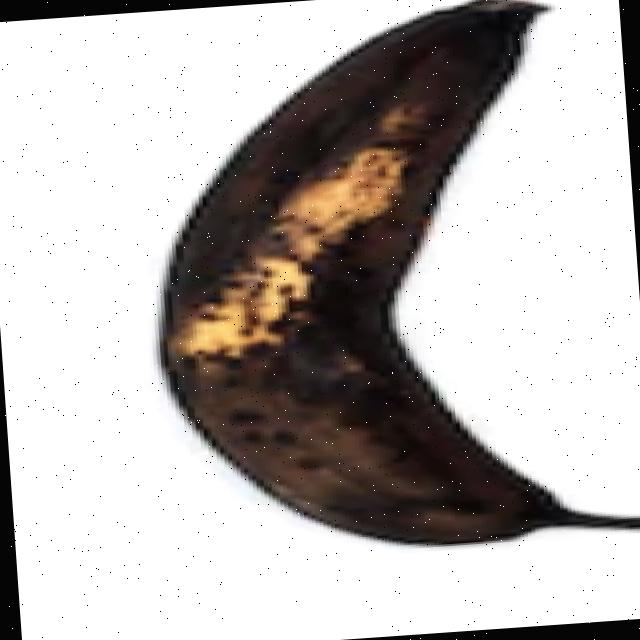Rotten: (94, 0, 640, 593)
